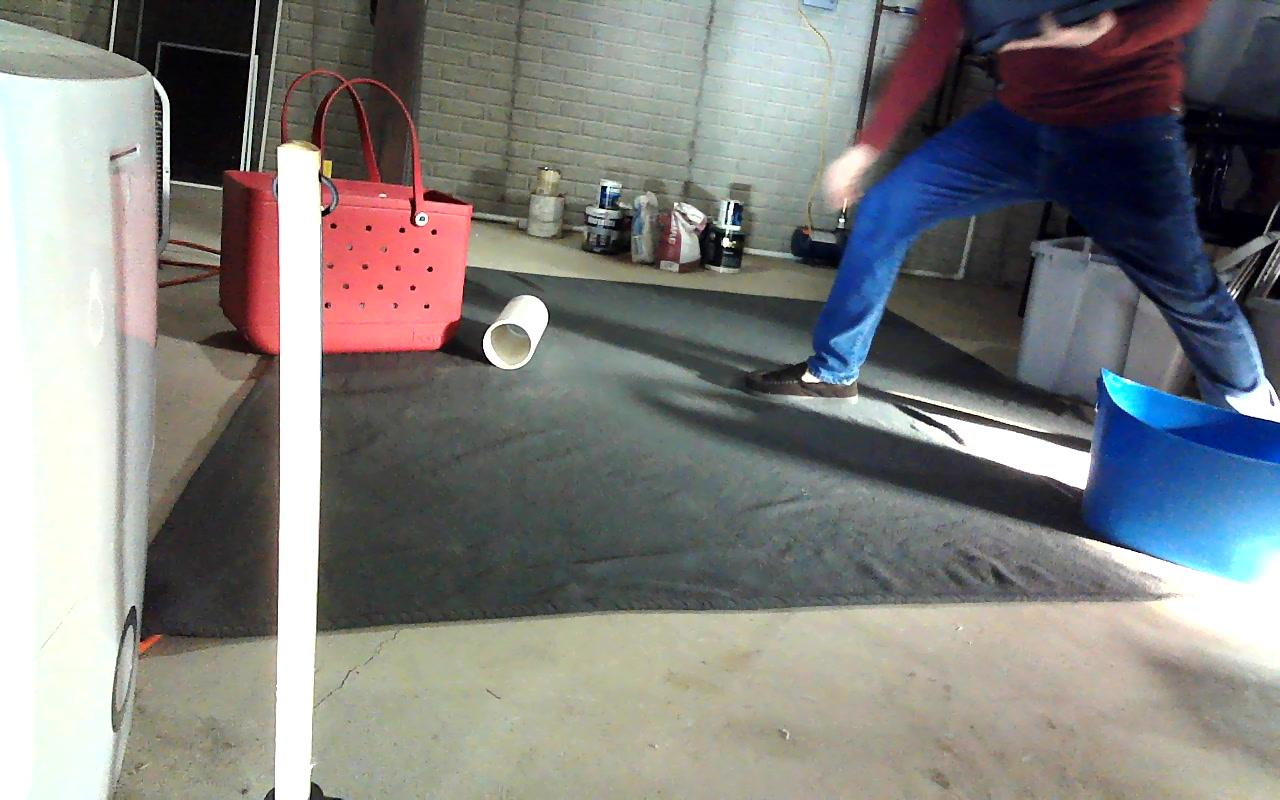coral: (483, 296, 547, 370)
